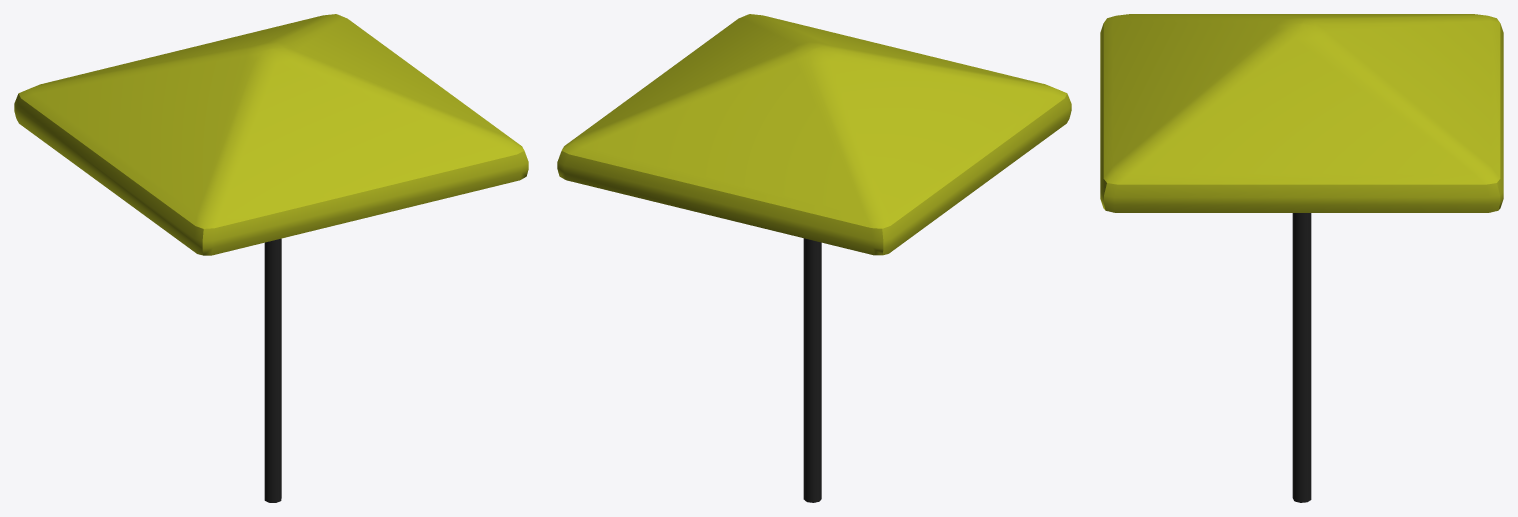
The model's file is SM_umbrella.fbx.
3 views of the same model, side by side, from view 1: azimuth 30°, elevation 25°; view 2: azimuth 150°, elevation 25°; view 3: azimuth 270°, elevation 25° (orthographic). The views are drawn at different scales.
Parts seen in each view (by area): view 1: Box324; view 2: Box324; view 3: Box324.
Boxes of the visible parts, bbox=[...] form: Box324: bbox=[14, 14, 528, 502]; Box324: bbox=[557, 14, 1071, 502]; Box324: bbox=[1100, 14, 1503, 502].
Bounding box in the file's own units: 79.09 × 103 × 79.09.
